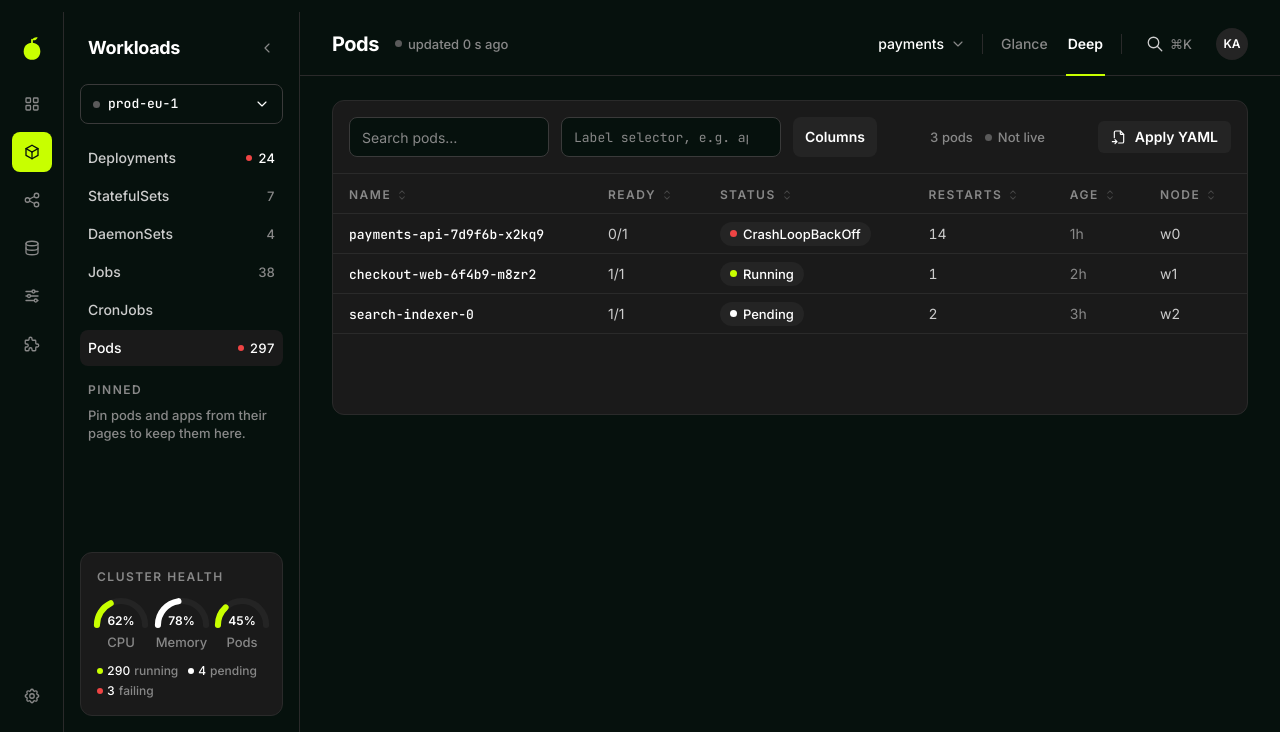
Resource list › filters by namespace and label selector on the server
expect the link "search-indexer-0" is shown: met, box [349,306,474,322]
Type "app=api" into the field labelled "Label selector" at (671, 137), box [561,117,781,157]
Then press Enter
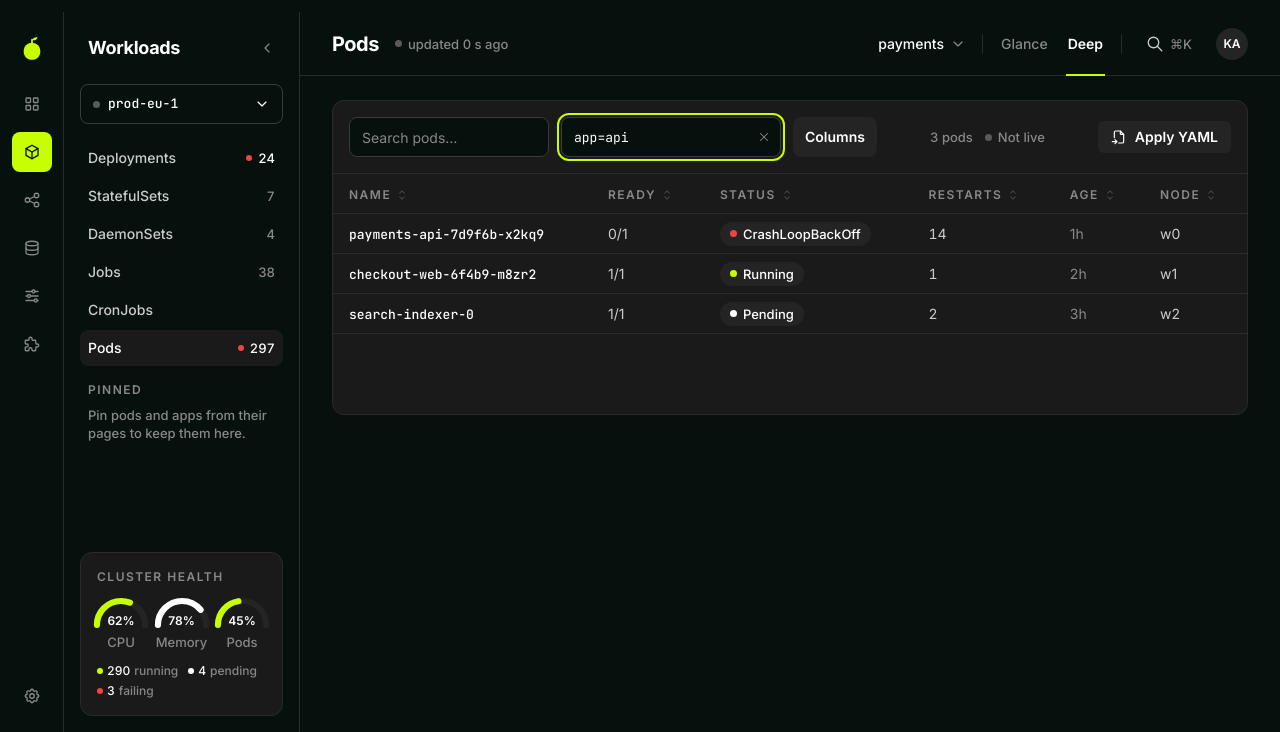
Click the button named "Clear label selector" at (763, 137), box [751,125,775,149]
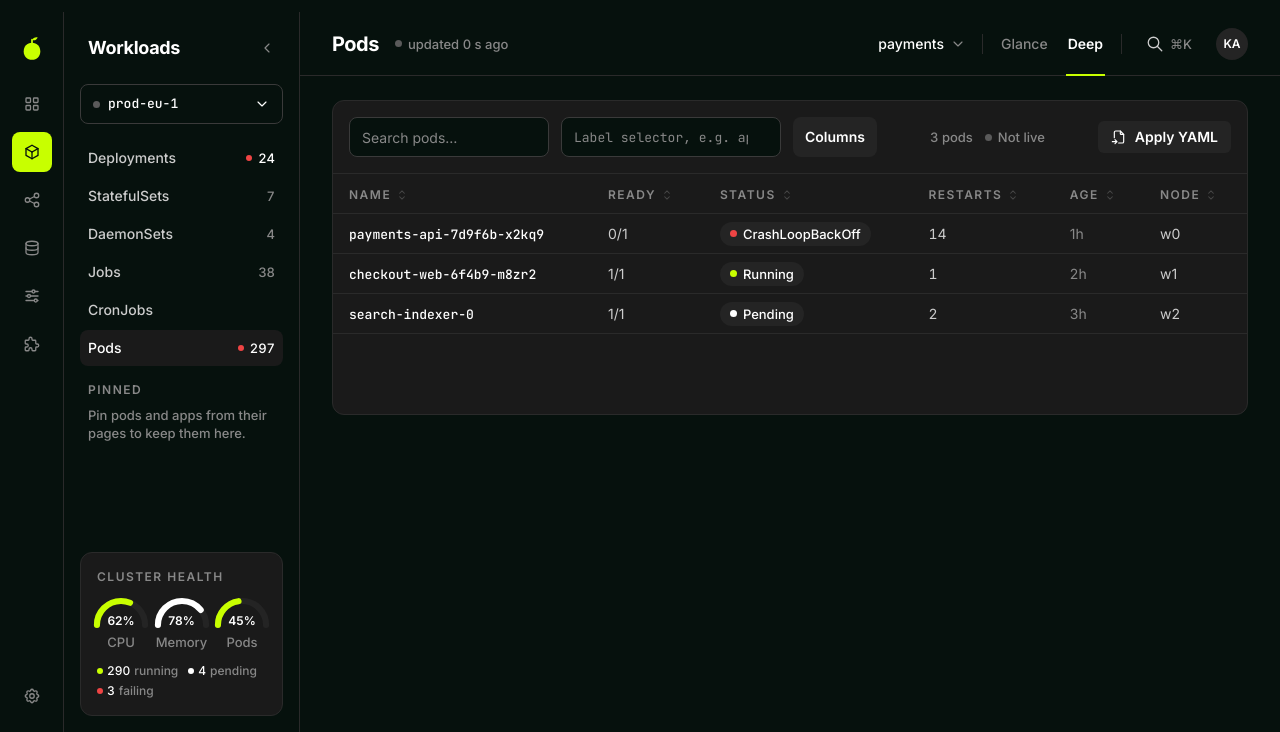
expect the field labelled "Label selector" is empty: met, box [561,117,781,157]
